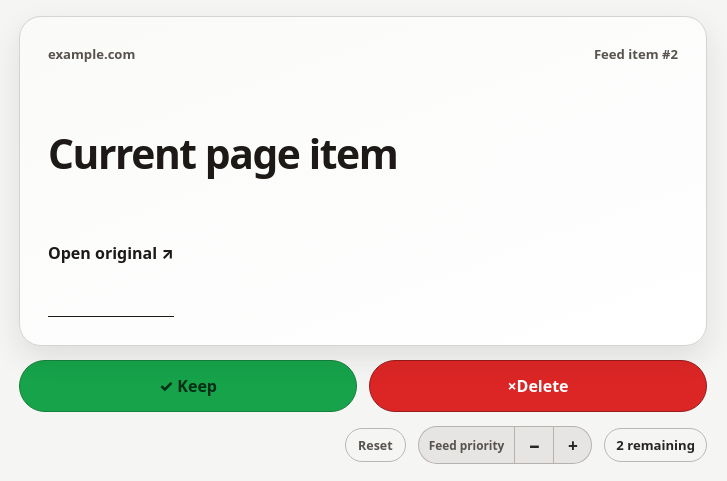
Test: ReaderPage › keeps the current queue unchanged while cursor pages are partial
The width and height of the screenshot is (727, 481).
Expected: the heading "Current page item" is shown, [48,125,397,181]
Click the button "✓ Keep": (188, 386) [19,360,357,412]
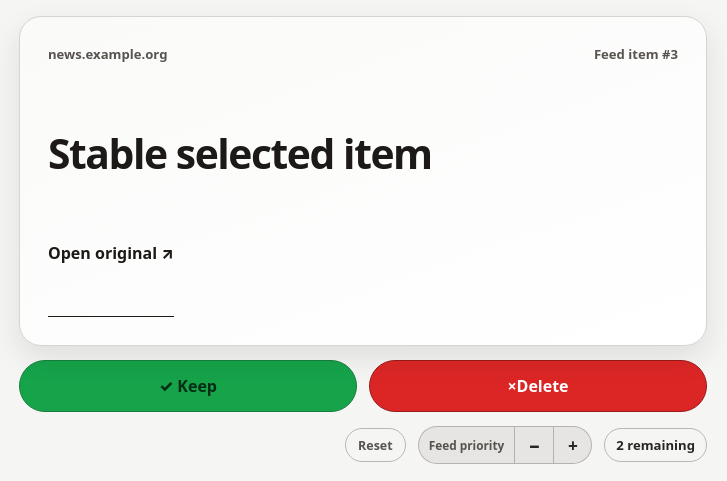
Expected: the text "2 remaining" is shown, [604,428,707,462]
Now the heading "Current page item" is gone
Now the heading "Stable selected item" is shown, box [48,125,432,181]
